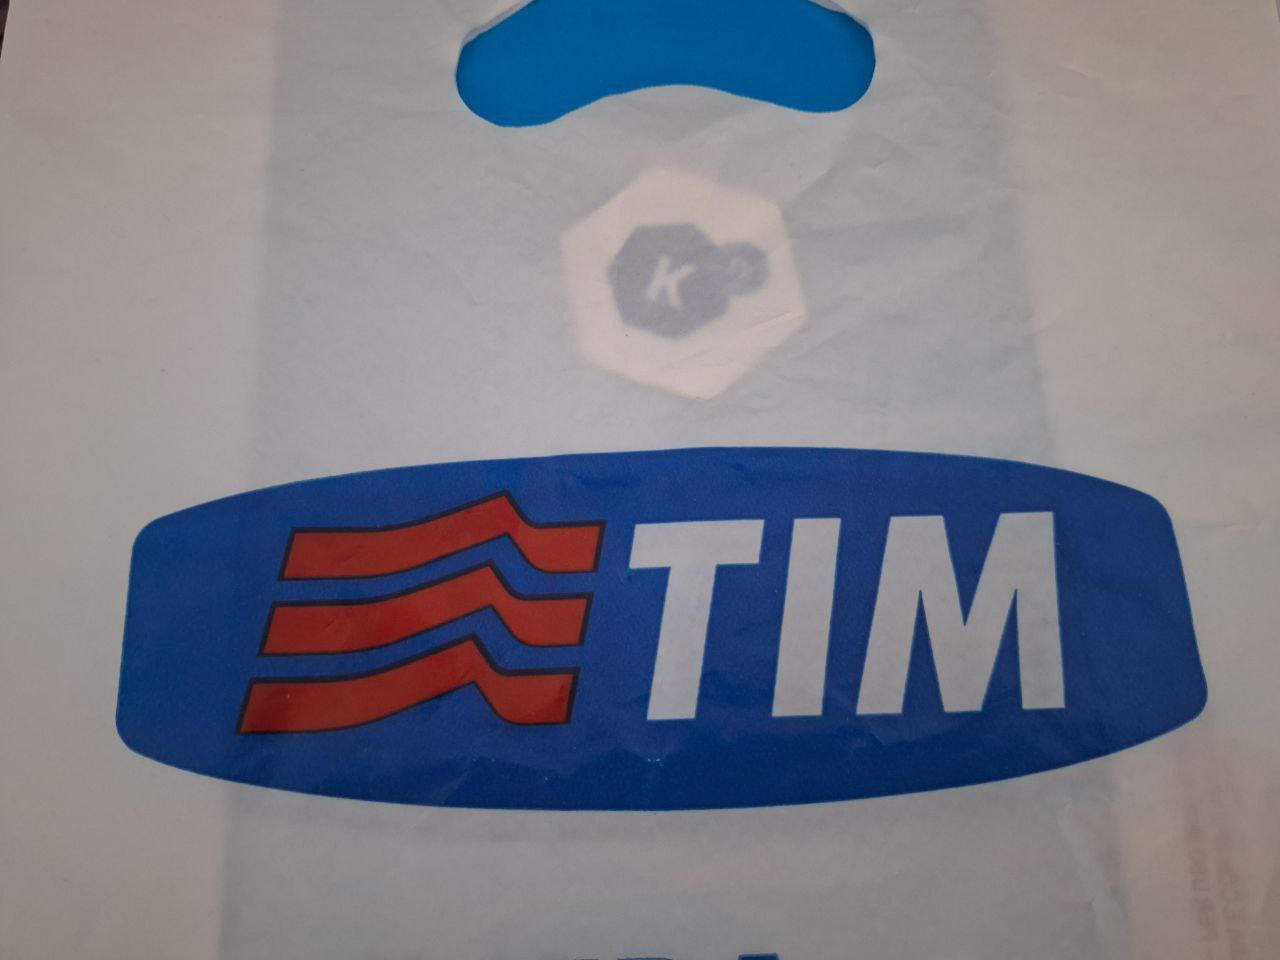knative: (604, 220, 771, 344)
